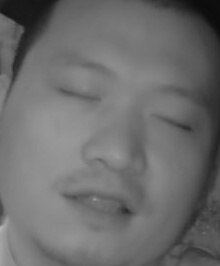blink: (58, 84, 101, 109), (151, 111, 193, 130)
mouth: (62, 179, 134, 230)
